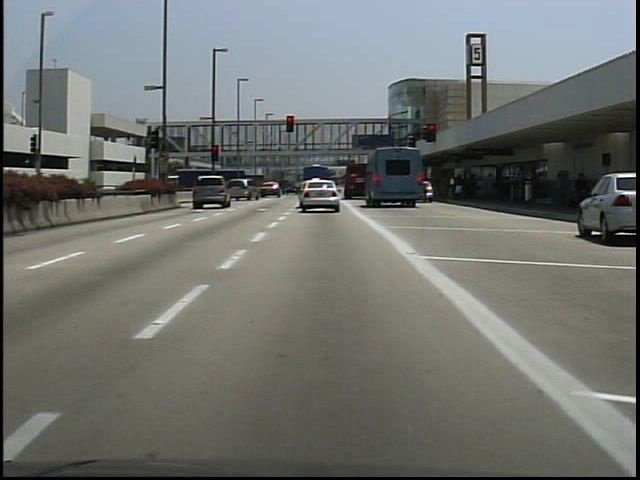person: (572, 169, 591, 223)
